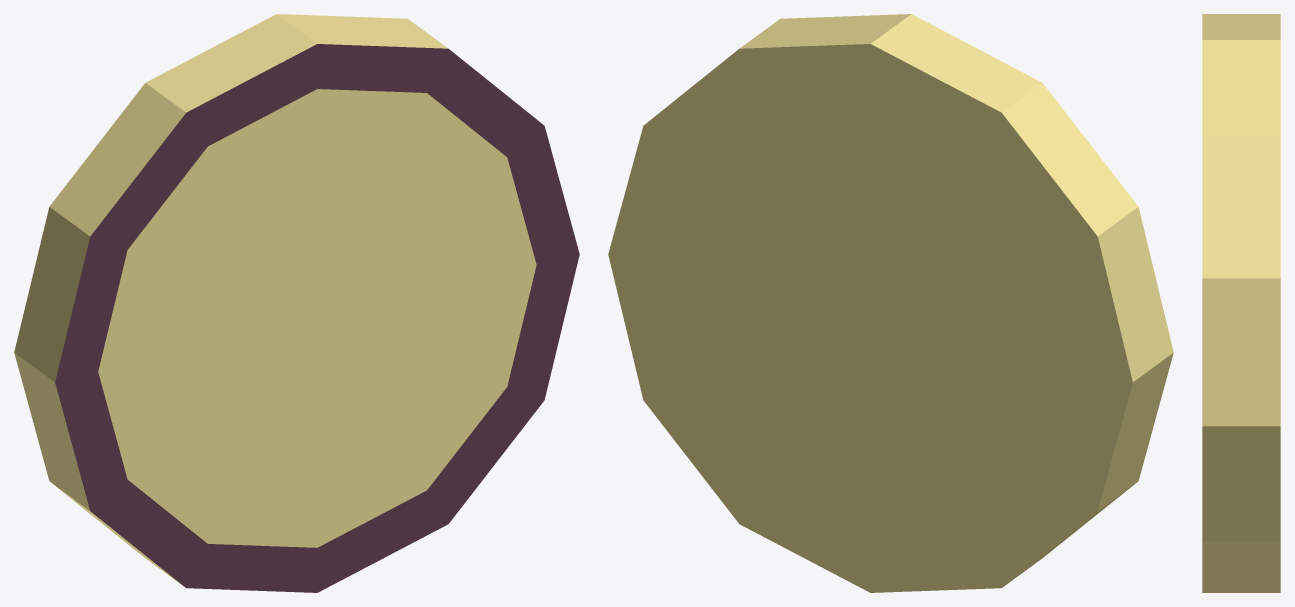
The model's file is sign_cream.glb.
The picture shows the model from 3 angles, left to right: view 1: azimuth 30°, elevation 25°; view 2: azimuth 150°, elevation 25°; view 3: azimuth 270°, elevation 25°; orthographic projection. The views are drawn at different scales.
Visible parts, largest first — view 1: Disc; view 2: Disc; view 3: Disc.
Boxes of the visible parts, box(x1,y1,x2,y2) form: Disc: box(14, 14, 579, 592); Disc: box(608, 14, 1173, 592); Disc: box(1202, 14, 1280, 592).
Bounding box in the file's own units: 0.63 × 0.63 × 0.085.
